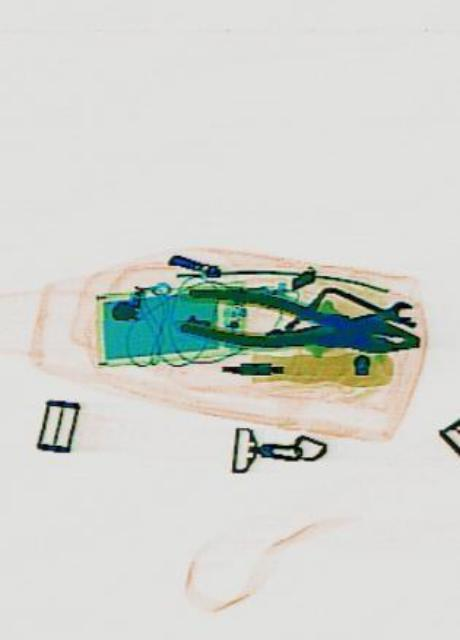Pliers: (174, 278, 419, 369)
Wrench: (260, 294, 409, 348)
